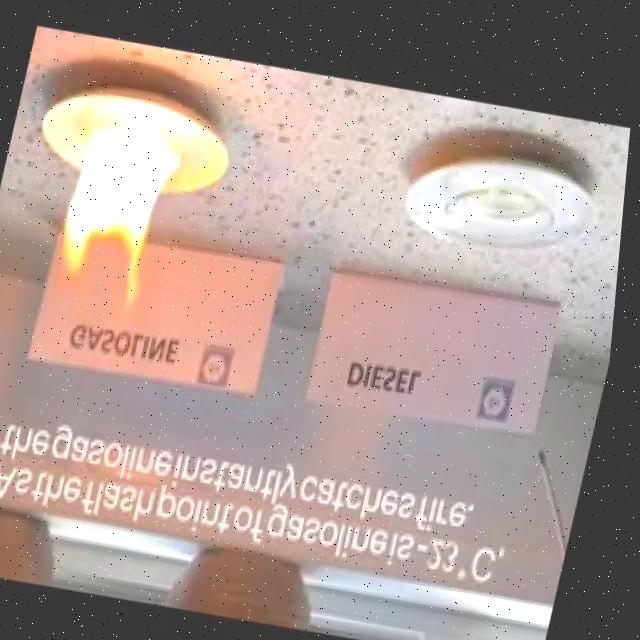Fire: (53, 108, 189, 317)
